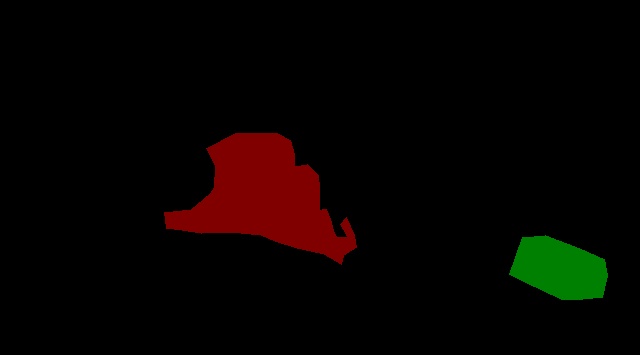fire: (164, 133, 356, 264), (509, 235, 607, 299)
